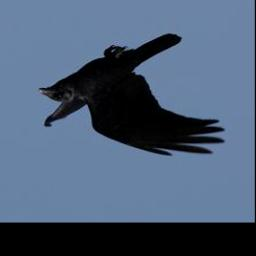Crow: (36, 33, 227, 159)
